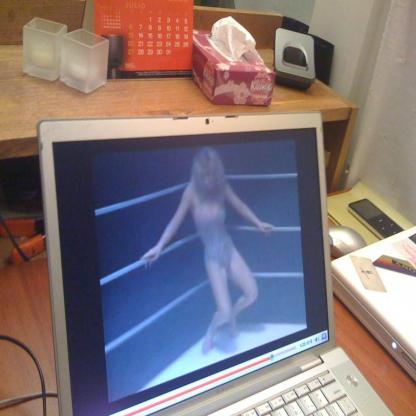board: (18, 102, 362, 416)
